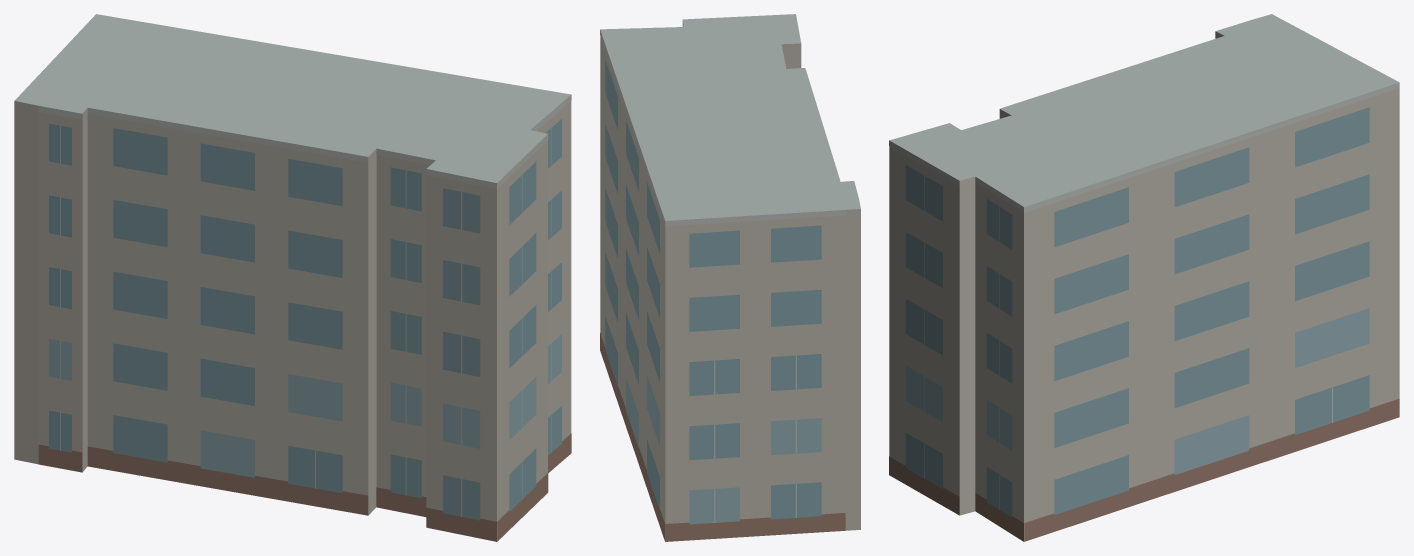
Rendered from survey-upis-32731341.glb.
3 views of the same model, side by side, from view 1: azimuth 30°, elevation 25°; view 2: azimuth 150°, elevation 25°; view 3: azimuth 270°, elevation 25° (orthographic). The views are drawn at different scales.
Visible parts, largest first — view 1: survey-upis-32731341.tmp; view 2: survey-upis-32731341.tmp; view 3: survey-upis-32731341.tmp.
Part boxes in pixels (x1,y1,x2,y2): survey-upis-32731341.tmp: [14, 14, 571, 541]; survey-upis-32731341.tmp: [600, 14, 860, 541]; survey-upis-32731341.tmp: [889, 14, 1399, 541].
Bounding box in the file's own units: 17.58 × 14.2 × 19.64.
